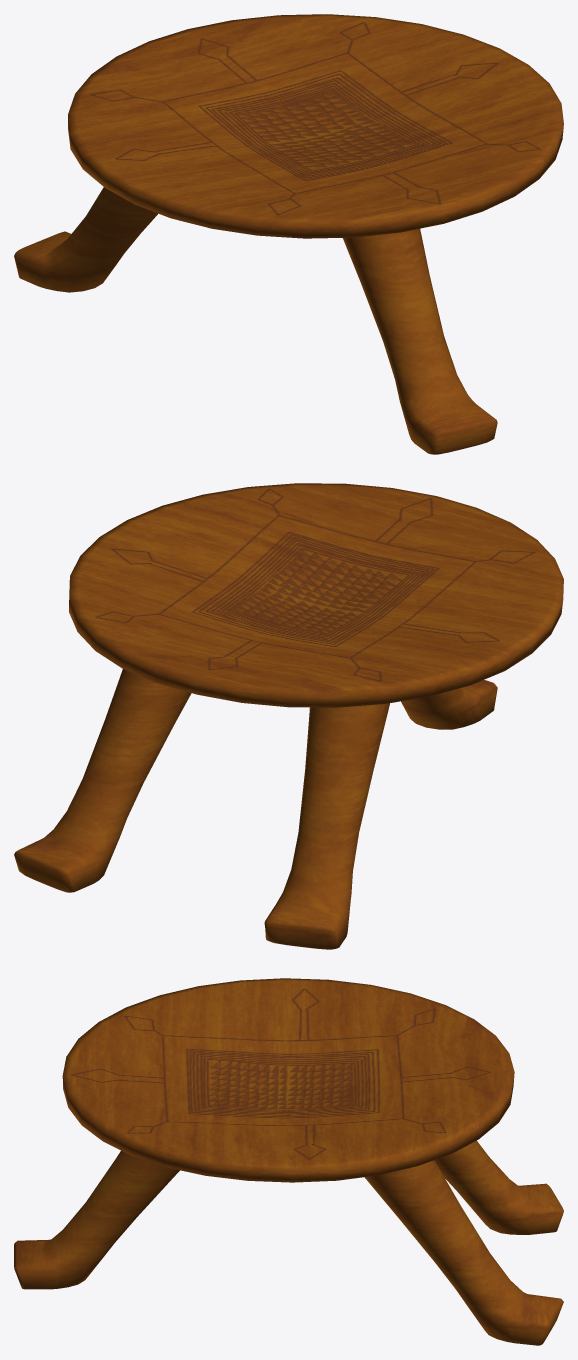
File: Tabouret Royal.fbx
3 renders of one model, top to bottom at view 1: azimuth 30°, elevation 25°; view 2: azimuth 150°, elevation 25°; view 3: azimuth 270°, elevation 25°, orthographic. The views are drawn at different scales.
Parts seen in each view (by area): view 1: Plane.001; view 2: Plane.001; view 3: Plane.001.
Boxes of the visible parts, box(x1,y1,x2,y2) form: Plane.001: box(14, 14, 563, 454); Plane.001: box(14, 483, 563, 949); Plane.001: box(14, 978, 563, 1345).
Bounding box in the file's own units: 77.57 × 38.71 × 94.4.
Materials: 1 (1 with a texture image).
